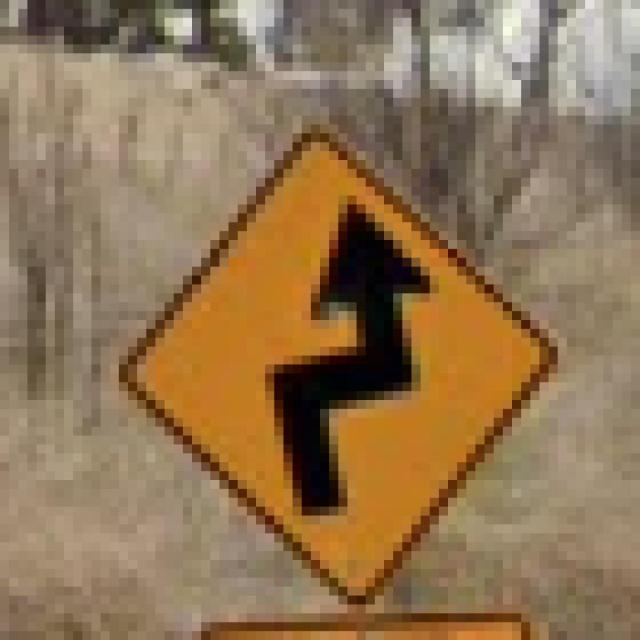Tikungan Ganda Pertama Ke Kanan: (91, 107, 558, 613)
